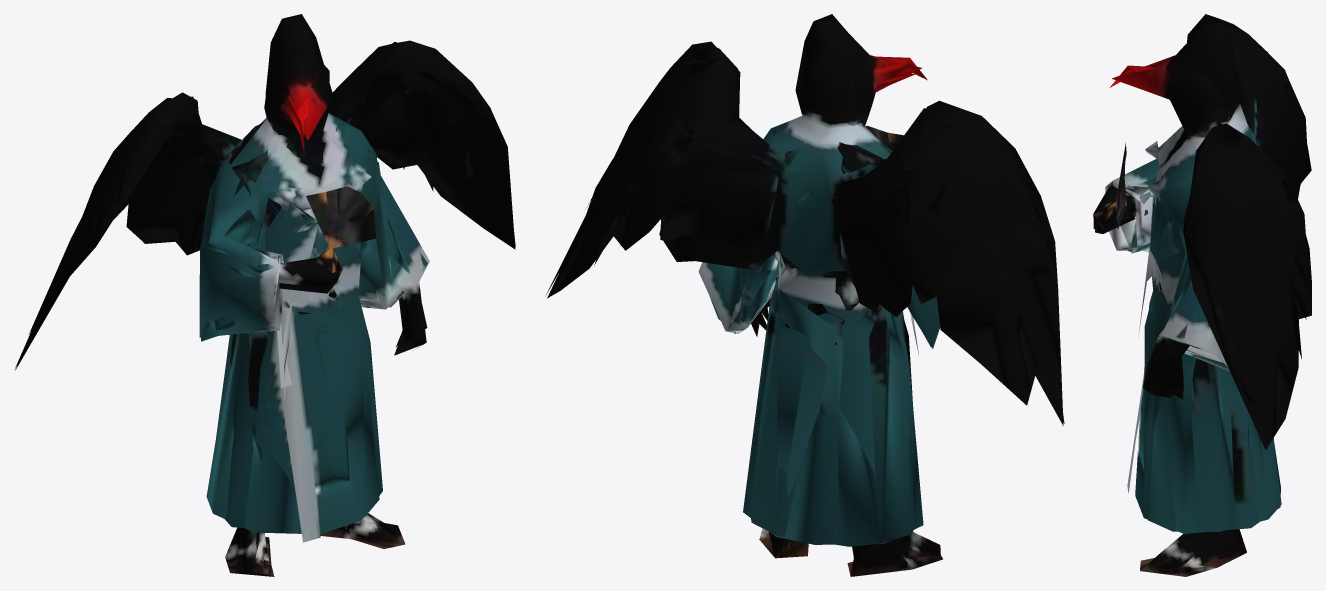
Rendered from detail_7_lo2.glb.
The picture shows the model from 3 angles, left to right: view 1: azimuth 30°, elevation 25°; view 2: azimuth 150°, elevation 25°; view 3: azimuth 270°, elevation 25°; orthographic projection. The views are drawn at different scales.
Visible parts, largest first — view 1: 0.001; view 2: 0.001; view 3: 0.001.
Boxes of the visible parts, box(x1,y1,x2,y2) form: 0.001: box(14, 14, 515, 576); 0.001: box(545, 14, 1064, 576); 0.001: box(1093, 14, 1311, 576).
Size of the model in its own units: 0.9957 by 0.9928 by 0.3785.
1 material, 1 textured.
